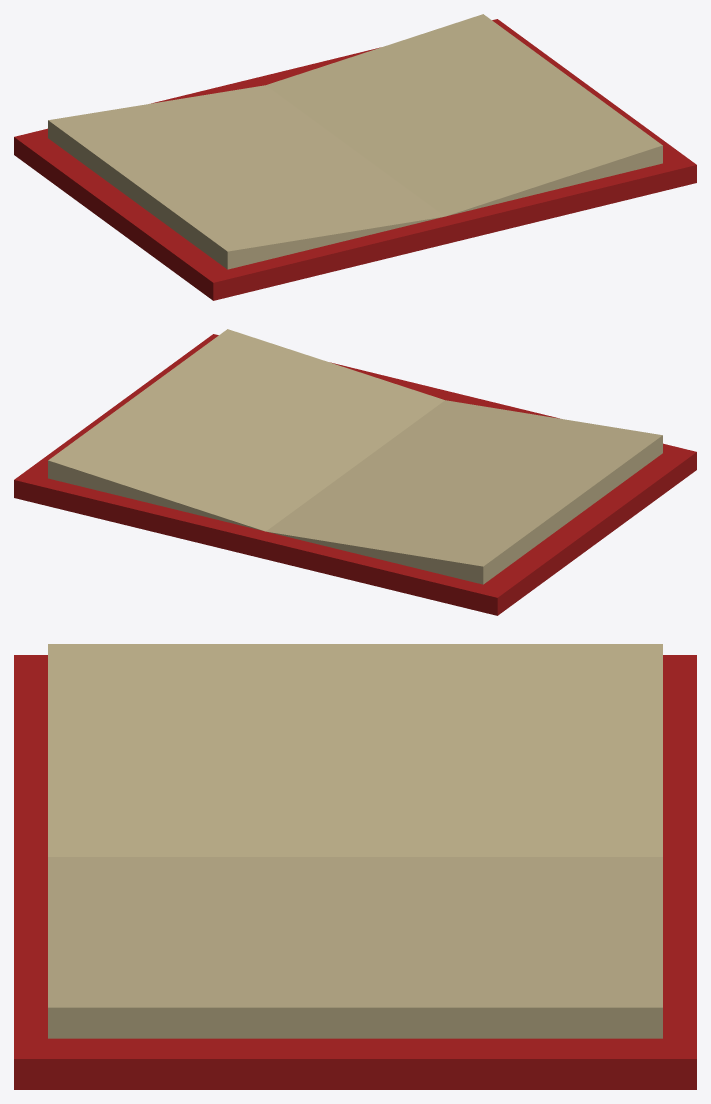
File: notitieboek.fbx
3 views of the same model, one above another, from view 1: azimuth 30°, elevation 25°; view 2: azimuth 150°, elevation 25°; view 3: azimuth 270°, elevation 25° (orthographic). The views are drawn at different scales.
Visible parts, largest first — view 1: Dummy; view 2: Dummy; view 3: Dummy.
Part boxes in pixels (x1,y1,x2,y2): Dummy: [14, 14, 696, 300]; Dummy: [14, 329, 696, 615]; Dummy: [14, 644, 696, 1089].
Bounding box in the file's own units: 14 × 1 × 10.
